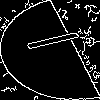I: (24, 25, 95, 53)
